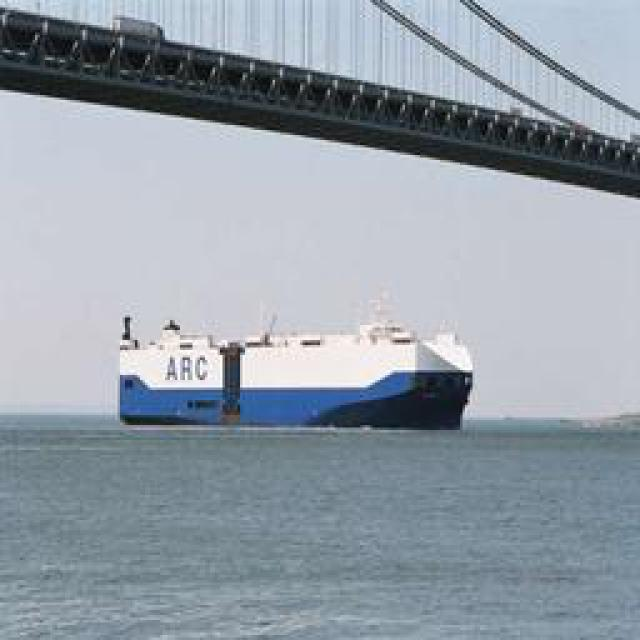Ship: (114, 315, 474, 428)
